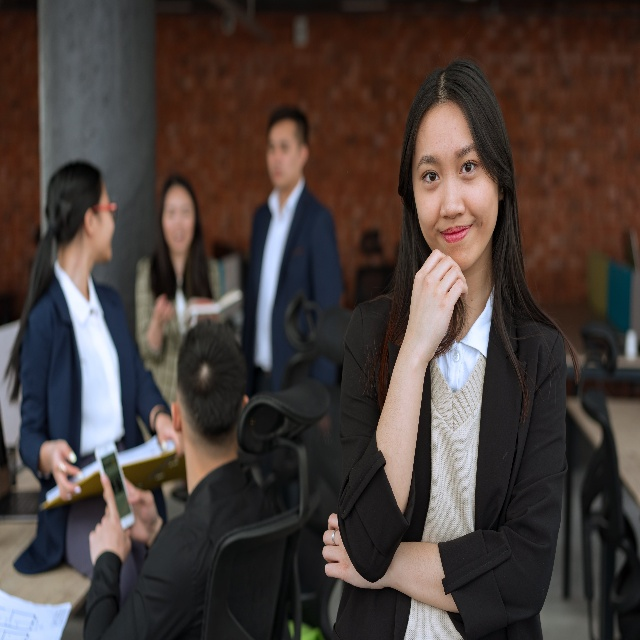Sin_guantes: (407, 251, 467, 354), (321, 511, 390, 590), (88, 477, 133, 573), (126, 470, 164, 546), (46, 432, 83, 502), (157, 413, 184, 459)
